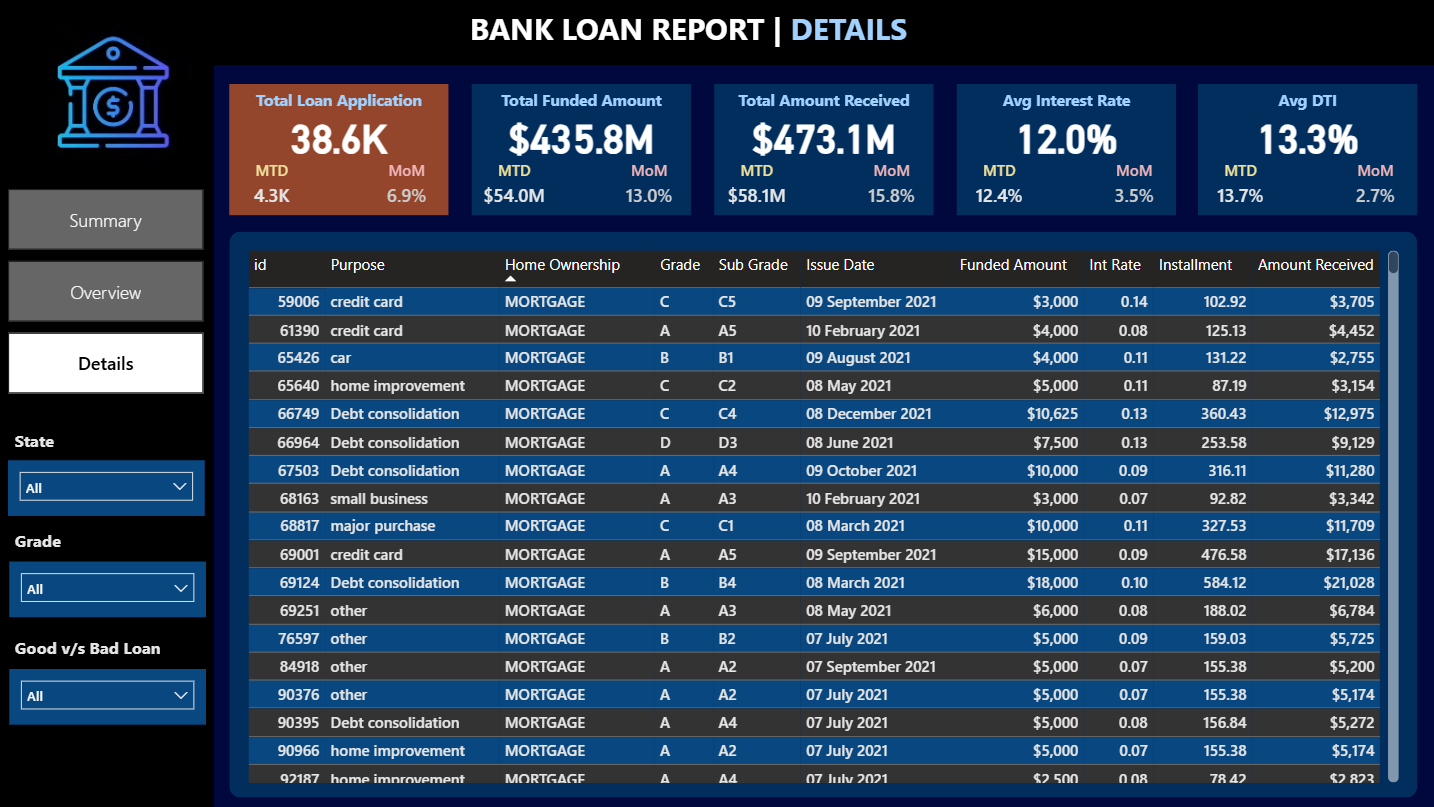

The dashboard page shown, as its layout file describes it:
{"tool":"powerbi","page":{"name":"Details","canvas":[1280,720],"ordinal":2},"visuals":[{"type":"shape","box":[206.3,76,195.4,117],"z":0,"group":"g1"},{"type":"shape","box":[422,76,195.4,117],"z":0,"group":"g2"},{"type":"shape","box":[637.6,76,195.4,117],"z":0,"group":"g3"},{"type":"shape","box":[853.3,76,195.4,117],"z":0,"group":"g4"},{"type":"shape","box":[1068.9,76,195.4,117],"z":0,"group":"g5"},{"type":"shape","box":[206.3,207.5,1058,504.3],"z":0},{"type":"shape","box":[0,0,1280.3,59],"z":1000},{"type":"card","fields":{"Values":["DAX Measures.Total Loan Application"]},"box":[206.3,92.9,195.4,59.1],"z":1000,"group":"g1"},{"type":"card","fields":{"Values":["DAX Measures.Total Funded Amount"]},"box":[422,92.9,195.4,59.1],"z":1000,"group":"g2"},{"type":"card","fields":{"Values":["DAX Measures.Total Amount Received"]},"box":[637.6,92.9,195.4,59.1],"z":1000,"group":"g3"},{"type":"card","fields":{"Values":["DAX Measures.Average Interest Rate"]},"box":[853.3,92.9,195.4,59.1],"z":1000,"group":"g4"},{"type":"card","fields":{"Values":["DAX Measures.Average DTI"]},"box":[1068.9,92.9,195.4,59.1],"z":1000,"group":"g5"},{"type":"shape","box":[0,59.1,192,661.1],"z":2000},{"type":"textbox","box":[206.3,76,195.4,33.8],"z":2000,"group":"g1"},{"type":"textbox","box":[422,76,195.4,33.8],"z":2000,"group":"g2"},{"type":"textbox","box":[637.6,76,195.4,33.8],"z":2000,"group":"g3"},{"type":"textbox","box":[853.3,76,195.4,33.8],"z":2000,"group":"g4"},{"type":"textbox","box":[1068.9,76,195.4,33.8],"z":2000,"group":"g5"},{"type":"textbox","box":[415,3.6,448.8,50.7],"z":3000},{"type":"card","title":"MTD","fields":{"Values":["DAX Measures.MTD Loan Application"]},"box":[206.3,143.6,76,49.5],"z":3000,"group":"g1"},{"type":"card","title":"MTD","fields":{"Values":["DAX Measures.MTD Funded Amount"]},"box":[422,143.6,76,49.5],"z":3000,"group":"g2"},{"type":"card","title":"MTD","fields":{"Values":["DAX Measures.MTD Total Amount Received"]},"box":[637.6,143.6,76,49.5],"z":3000,"group":"g3"},{"type":"card","title":"MTD","fields":{"Values":["DAX Measures.MTD Avg Int Rate"]},"box":[853.3,143.6,76,49.5],"z":3000,"group":"g4"},{"type":"card","title":"MTD","fields":{"Values":["DAX Measures.MTD Avg DTI"]},"box":[1068.9,143.6,76,49.5],"z":3000,"group":"g5"},{"type":"group","id":"g1","title":"Group 1","box":[206.3,76,195.4,117],"z":4000},{"type":"card","title":"MoM","fields":{"Values":["DAX Measures.MoM Loan Application"]},"box":[328.2,143.6,73.6,49.5],"z":4000,"group":"g1"},{"type":"card","title":"MoM","fields":{"Values":["DAX Measures.MoM Funded Amount"]},"box":[543.9,143.6,73.6,49.5],"z":4000,"group":"g2"},{"type":"card","title":"MoM","fields":{"Values":["DAX Measures.MoM Total Amount Received"]},"box":[759.5,143.6,73.6,49.5],"z":4000,"group":"g3"},{"type":"card","title":"MoM","fields":{"Values":["DAX Measures.MoM Avg Int Rate"]},"box":[975.2,143.6,73.6,49.5],"z":4000,"group":"g4"},{"type":"card","title":"MoM","fields":{"Values":["DAX Measures.MoM AVG DTI"]},"box":[1190.8,143.6,73.6,49.5],"z":4000,"group":"g5"},{"type":"group","id":"g2","title":"Group 1","box":[422,76,195.4,117],"z":5000},{"type":"group","id":"g3","title":"Group 1","box":[637.6,76,195.4,117],"z":6000},{"type":"group","id":"g4","title":"Group 1","box":[853.3,76,195.4,117],"z":7000},{"type":"group","id":"g5","title":"Group 1","box":[1068.9,76,195.4,117],"z":8000},{"type":"shape","box":[0,58.9,192,661.1],"z":9000},{"type":"slicer","fields":{"Values":["bank_loan_data.address_state"]},"box":[9.4,410.7,174.9,49.5],"z":10000},{"type":"textbox","box":[10.4,378.1,88.1,33.8],"z":11000},{"type":"slicer","fields":{"Values":["bank_loan_data.grade"]},"box":[10.4,501.2,174.9,49.5],"z":12000},{"type":"textbox","box":[10.4,467.4,88.1,33.8],"z":13000},{"type":"slicer","fields":{"Values":["bank_loan_data.Good v/s Bad Loan"]},"box":[10.4,596.5,174.9,49.5],"z":14000},{"type":"textbox","box":[10.4,562.7,174.9,33.8],"z":15000},{"type":"tableEx","fields":{"Values":["bank_loan_data.id","bank_loan_data.purpose","bank_loan_data.home_ownership","bank_loan_data.grade","bank_loan_data.sub_grade","bank_loan_data.issue_date","DAX Measures.Total Funded Amount","Sum(bank_loan_data.int_rate)","Sum(bank_loan_data.installment)","DAX Measures.Total Amount Received"]},"box":[217.2,219.6,1035.1,483.8],"z":18001},{"type":"pageNavigator","box":[8.4,168.9,174.9,184.6],"z":18002},{"type":"image","box":[10,10,183.4,143.6],"z":18003}]}

Visuals, with their boxes in screenshot pixels (x1, y1, x2, y2), scaled from the page's 1280x720 canvas onto the 1434x807 screenshot:
shape: BBox(231, 85, 450, 216)
shape: BBox(473, 85, 692, 216)
shape: BBox(714, 85, 933, 216)
shape: BBox(956, 85, 1175, 216)
shape: BBox(1198, 85, 1416, 216)
shape: BBox(231, 233, 1416, 798)
shape: BBox(0, 0, 1433, 66)
card - DAX Measures.Total Loan Application: BBox(231, 104, 450, 170)
card - DAX Measures.Total Funded Amount: BBox(473, 104, 692, 170)
card - DAX Measures.Total Amount Received: BBox(714, 104, 933, 170)
card - DAX Measures.Average Interest Rate: BBox(956, 104, 1175, 170)
card - DAX Measures.Average DTI: BBox(1198, 104, 1416, 170)
shape: BBox(0, 66, 215, 806)
textbox: BBox(231, 85, 450, 123)
textbox: BBox(473, 85, 692, 123)
textbox: BBox(714, 85, 933, 123)
textbox: BBox(956, 85, 1175, 123)
textbox: BBox(1198, 85, 1416, 123)
textbox: BBox(465, 4, 968, 61)
"MTD" card: BBox(231, 161, 316, 216)
"MTD" card: BBox(473, 161, 558, 216)
"MTD" card: BBox(714, 161, 799, 216)
"MTD" card: BBox(956, 161, 1041, 216)
"MTD" card: BBox(1198, 161, 1283, 216)
"Group 1" group: BBox(231, 85, 450, 216)
"MoM" card: BBox(368, 161, 450, 216)
"MoM" card: BBox(609, 161, 692, 216)
"MoM" card: BBox(851, 161, 933, 216)
"MoM" card: BBox(1093, 161, 1175, 216)
"MoM" card: BBox(1334, 161, 1417, 216)
"Group 1" group: BBox(473, 85, 692, 216)
"Group 1" group: BBox(714, 85, 933, 216)
"Group 1" group: BBox(956, 85, 1175, 216)
"Group 1" group: BBox(1198, 85, 1416, 216)
shape: BBox(0, 66, 215, 806)
slicer - bank_loan_data.address_state: BBox(11, 460, 206, 516)
textbox: BBox(12, 424, 110, 462)
slicer - bank_loan_data.grade: BBox(12, 562, 208, 617)
textbox: BBox(12, 524, 110, 562)
slicer - bank_loan_data.Good v/s Bad Loan: BBox(12, 669, 208, 724)
textbox: BBox(12, 631, 208, 669)
tableEx - bank_loan_data.id x bank_loan_data.purpose: BBox(243, 246, 1403, 788)
pageNavigator: BBox(9, 189, 205, 396)
image: BBox(11, 11, 217, 172)
